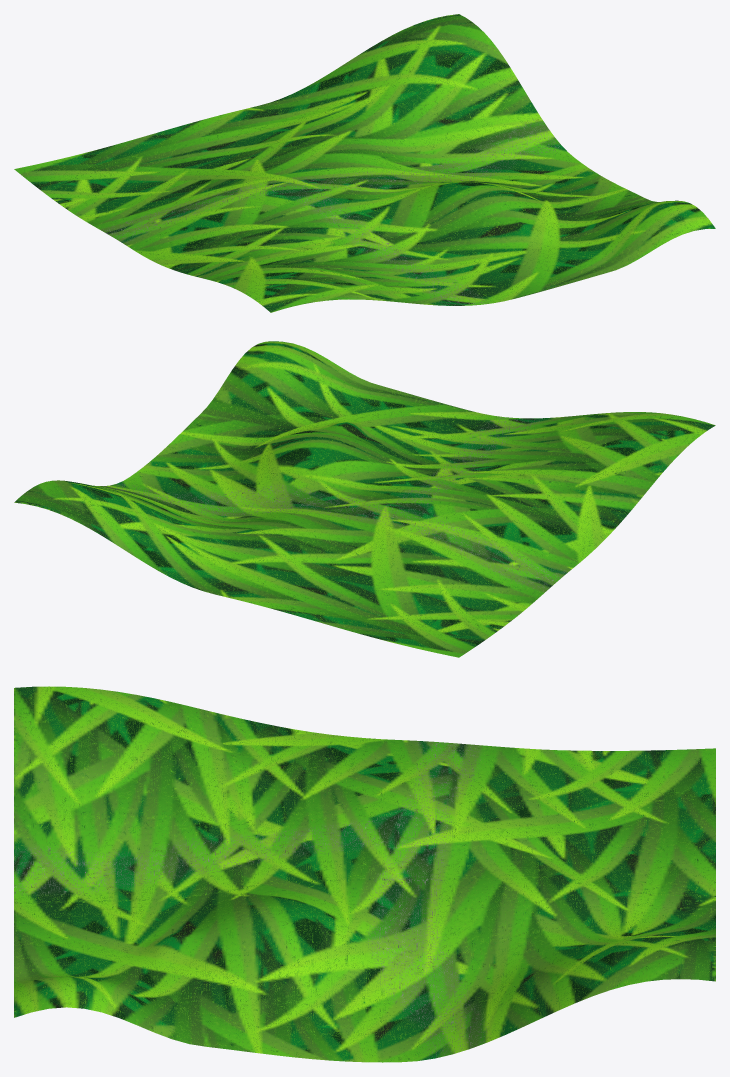
File: bifurcada.dae
3 renders of one model, top to bottom at view 1: azimuth 30°, elevation 25°; view 2: azimuth 150°, elevation 25°; view 3: azimuth 270°, elevation 25°, orthographic. The views are drawn at different scales.
Visible parts, largest first — view 1: group_0; view 2: group_0; view 3: group_0.
Part boxes in pixels (x1,y1,x2,y2): group_0: (14, 14, 715, 312); group_0: (14, 341, 715, 657); group_0: (14, 686, 715, 1062).
Size of the model in its own units: 30.48 by 30.48 by 4.12.
Materials: 1 (1 with a texture image).
